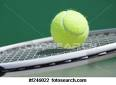tennis ball: (49, 10, 90, 50)
